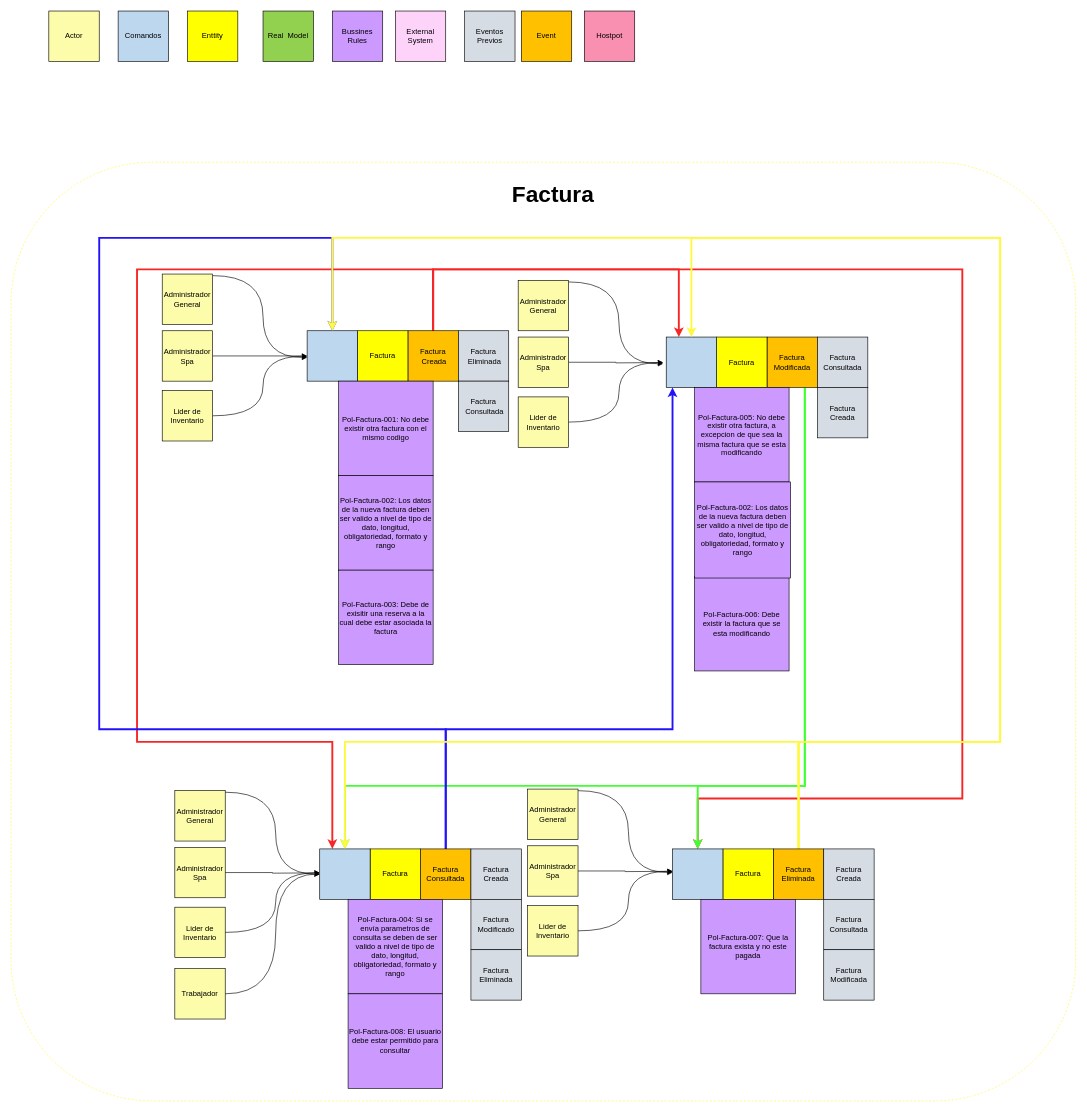
The diagram is 1087 pixels wide and 1112 high, and some of its shapes have lost their labels. The box of each missing label's shape, as (x1, y1, x2, y2) in pixels:
Consultar Factura: (319, 848, 370, 899)
Crear Factura: (306, 330, 358, 381)
Eliminar CitaReserva: (672, 848, 723, 899)
Modificar Factura: (666, 336, 717, 387)
